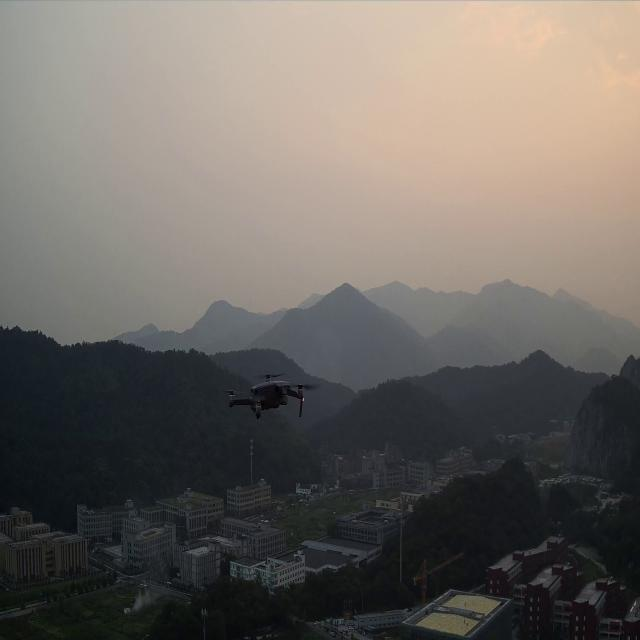UAV: (221, 371, 322, 421)
